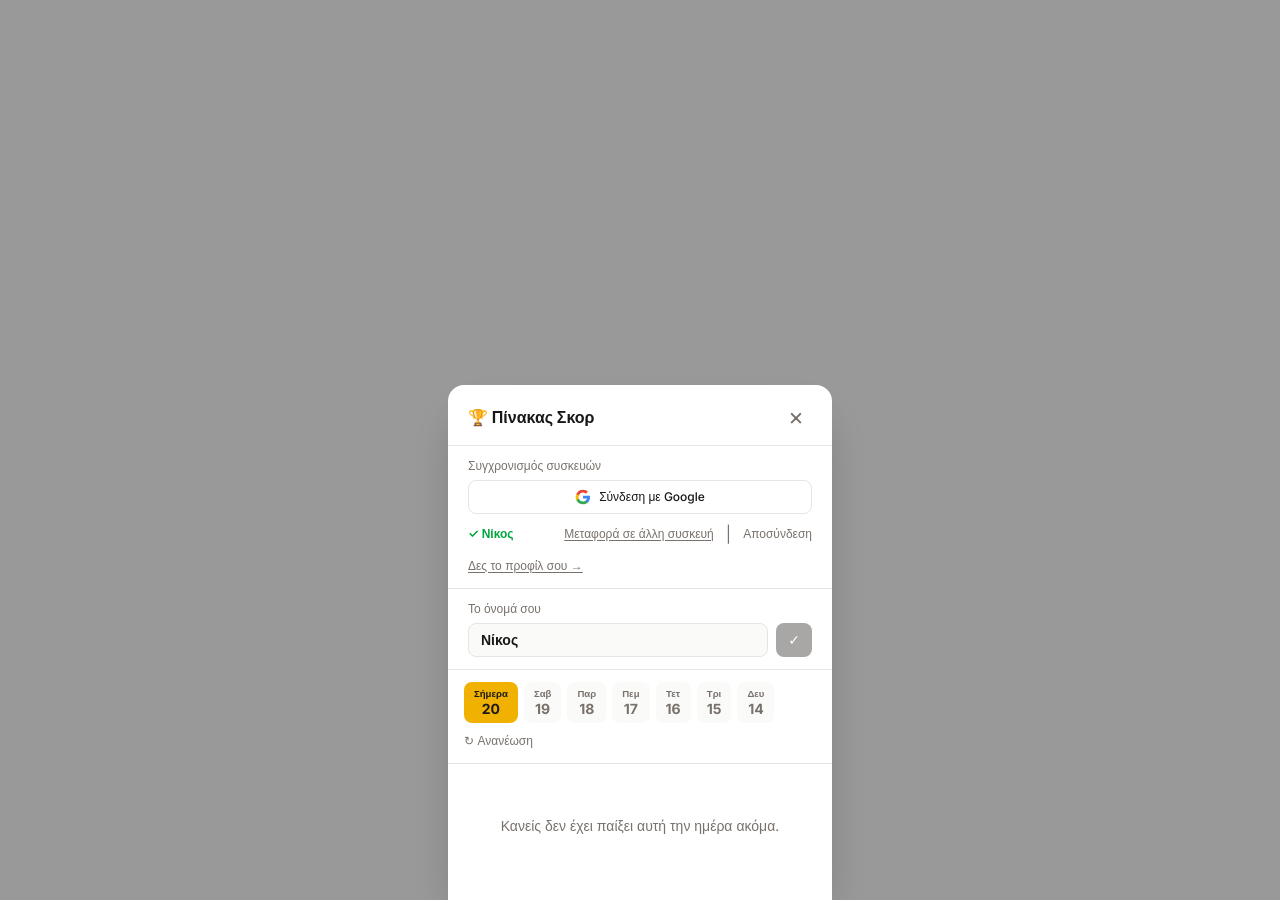
Test case: LeaderboardModal — profile section (linked) › 'Άκυρο' in disconnect confirmation keeps the linked state
Click the button "Αποσύνδεση": click(778, 534) [743, 526, 812, 542]
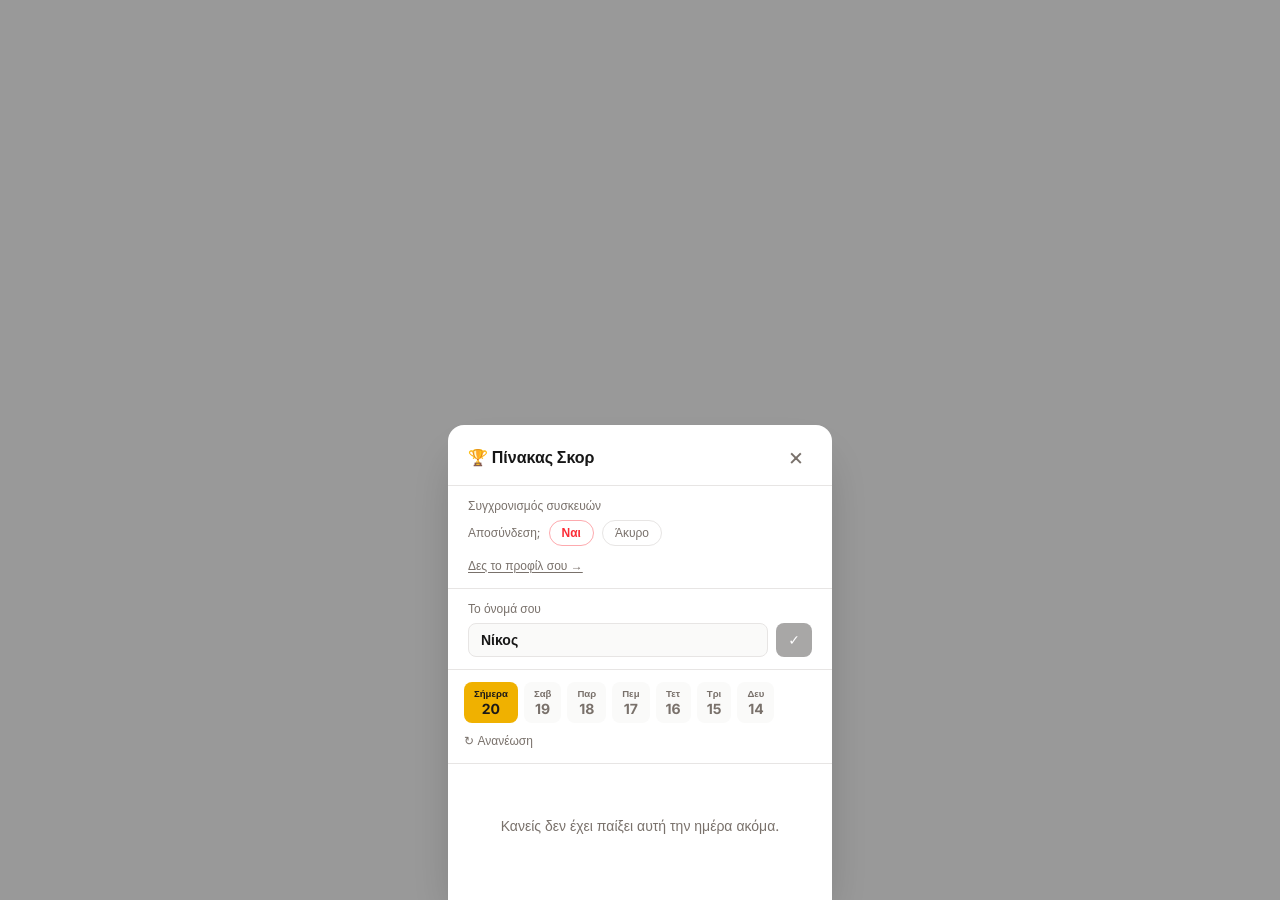
Click the button with test id "btn-disconnect-cancel": click(632, 532) [602, 520, 662, 546]
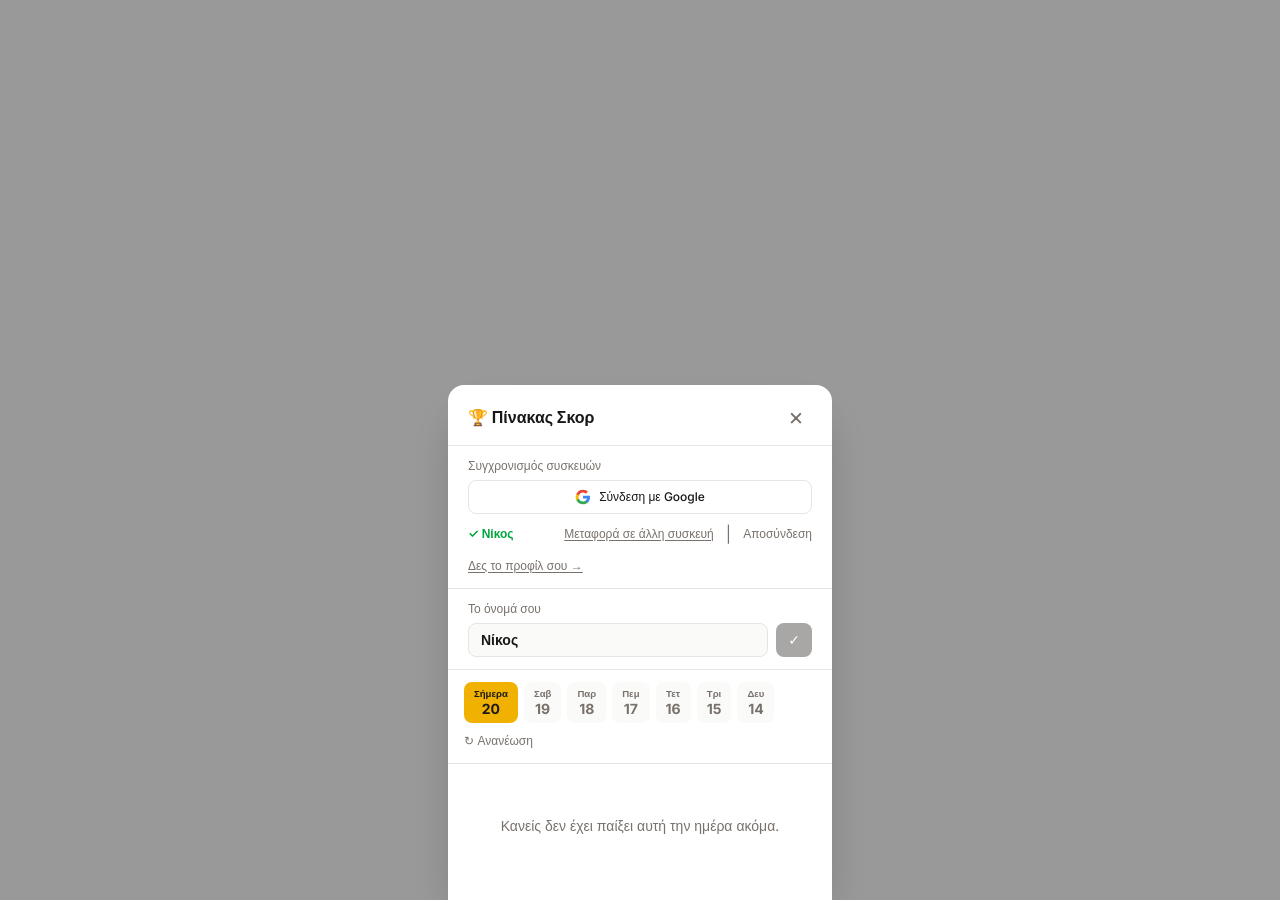
Result: the text "✓ Νίκος" is shown at [468, 526, 514, 542]
